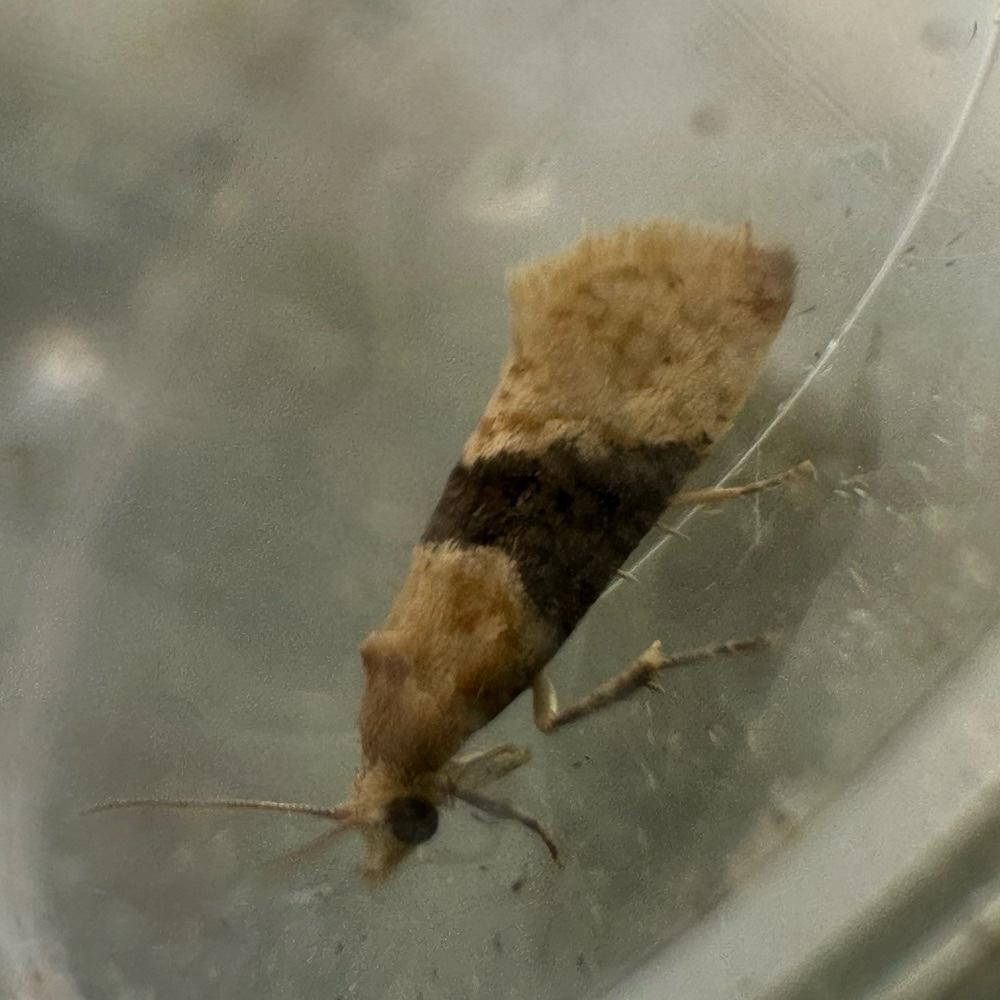Eupoecilia Ambiguella: (78, 208, 816, 891)
